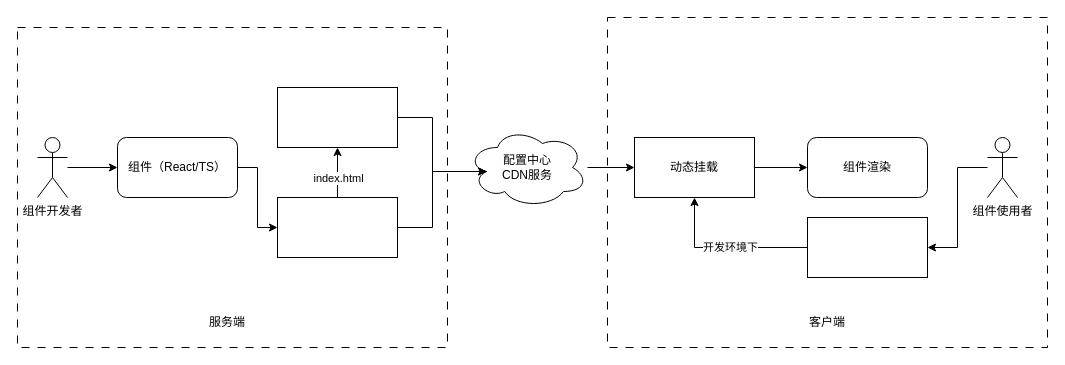
This 1065x365 diagram has some shape labels left out. Each missing label, with the centre of its shape:
"meta元数据" goes at (x=337, y=117).
"TS注解" goes at (x=867, y=247).
"组件chunk 组件样式" goes at (x=337, y=227).
